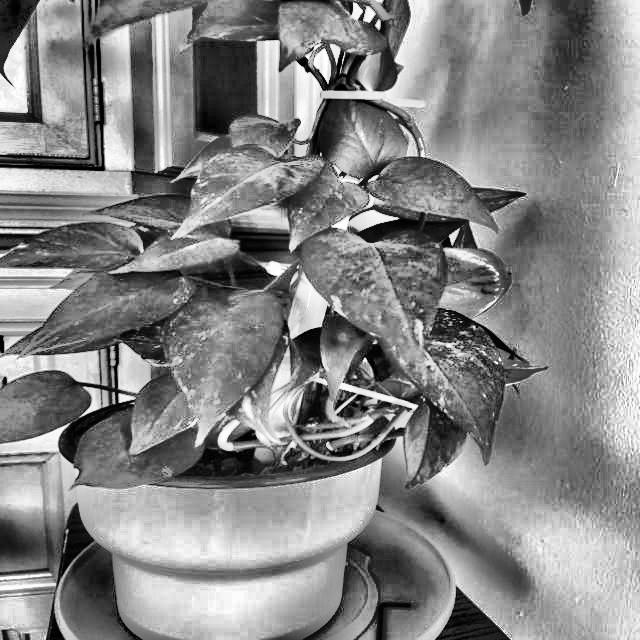plants: (18, 1, 536, 526)
